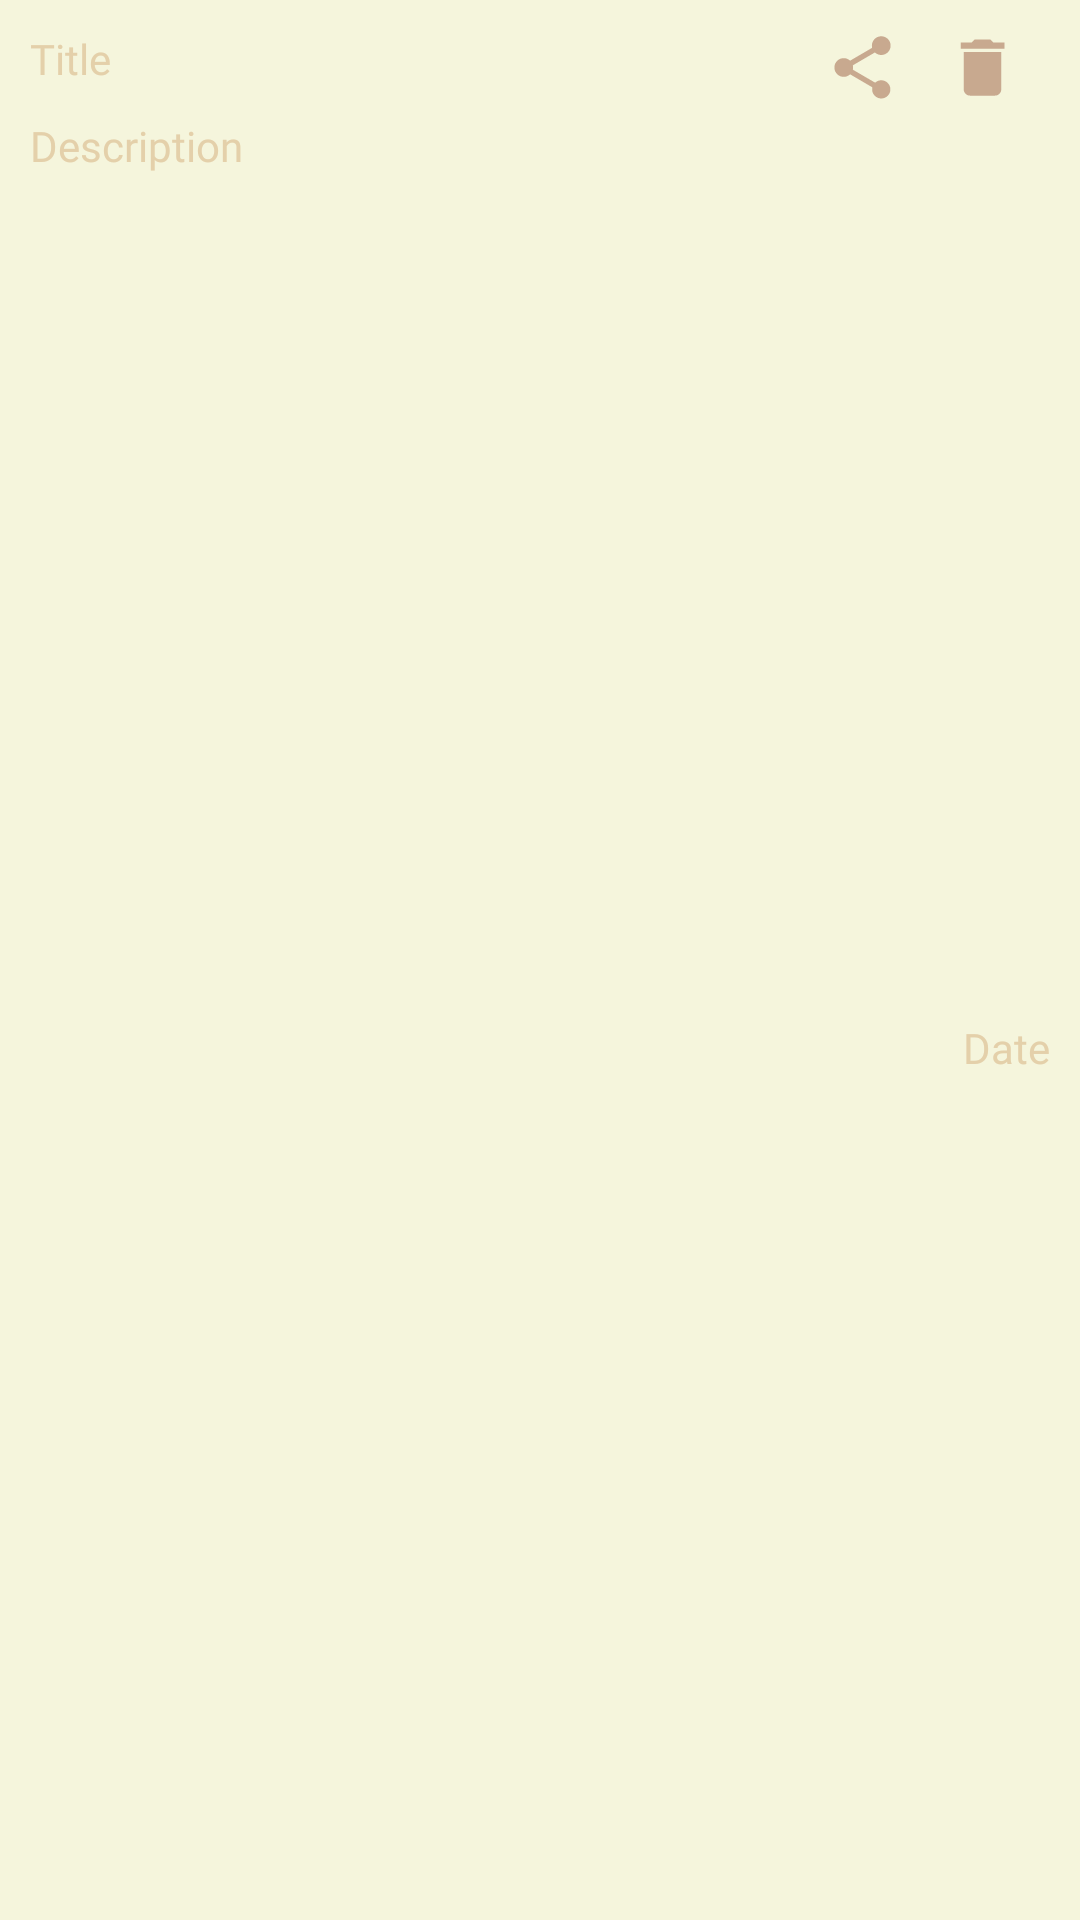

Screen size 1080×1920. Icon name, then its box in pixels as Rect(x1, y1, x2, y2):
delete: Rect(961, 39, 1005, 96)
share: Rect(834, 36, 891, 99)
